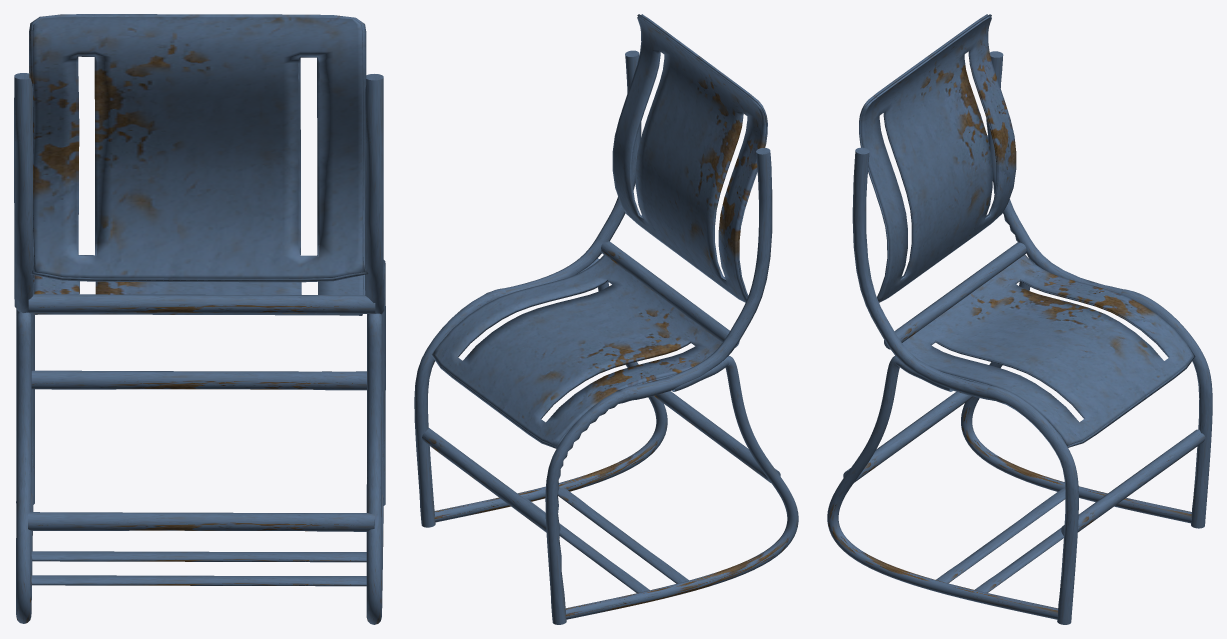
File: Chair_Abondoned.fbx
3 renders of one model, left to right at view 1: azimuth 30°, elevation 25°; view 2: azimuth 150°, elevation 25°; view 3: azimuth 270°, elevation 25°, orthographic. The views are drawn at different scales.
Visible parts, largest first — view 1: NurbsPath.003; view 2: NurbsPath.003; view 3: NurbsPath.003.
Boxes of the visible parts, box(x1,y1,x2,y2) form: NurbsPath.003: box(14, 14, 385, 624); NurbsPath.003: box(414, 14, 798, 624); NurbsPath.003: box(827, 14, 1212, 624).
Bounding box in the file's own units: 900 × 1226 × 913.
1 material, 1 textured.
